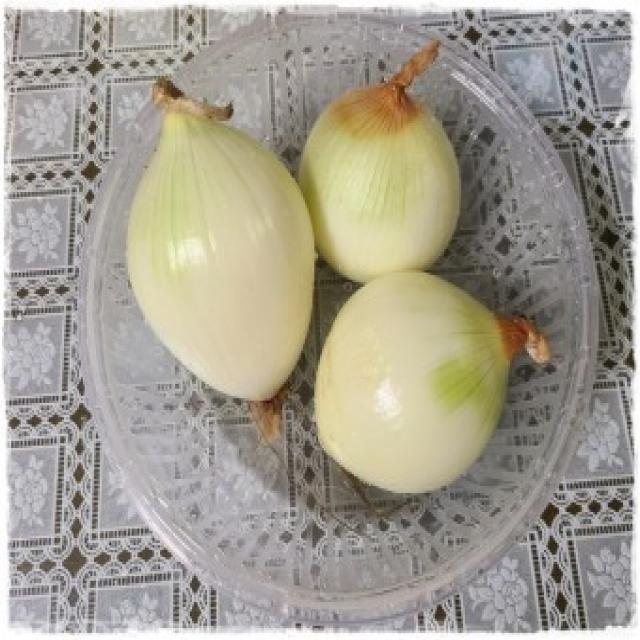onion: (134, 145, 310, 373), (339, 295, 489, 474), (322, 89, 440, 270)
